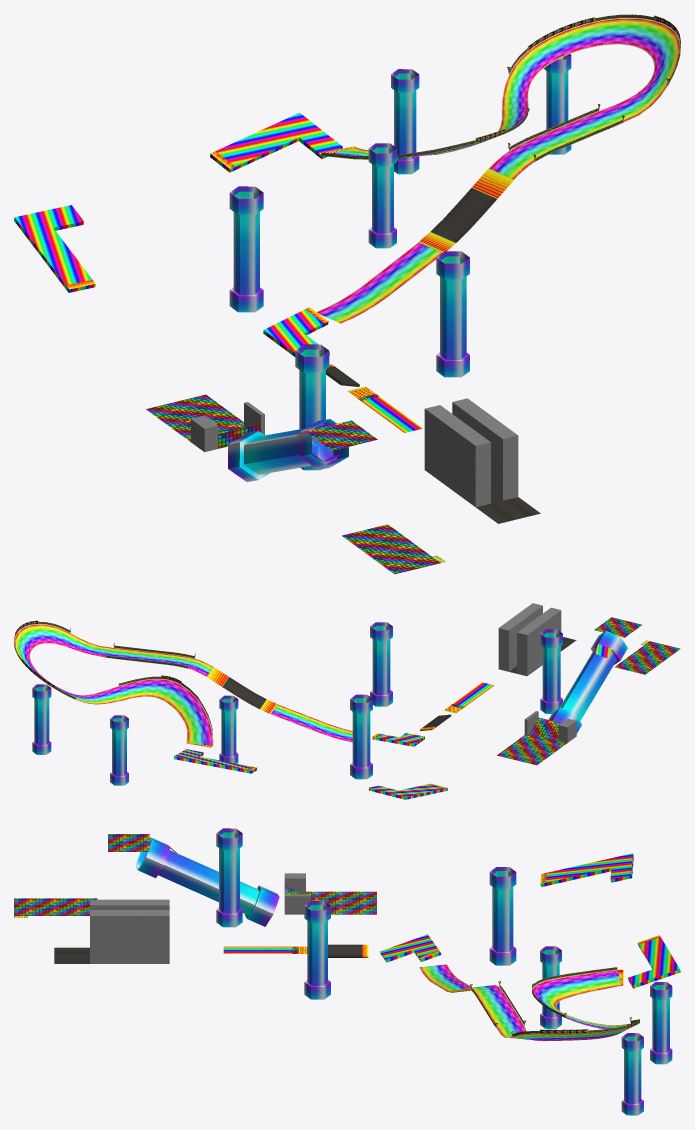
3 renders of one model, top to bottom at view 1: azimuth 30°, elevation 25°; view 2: azimuth 150°, elevation 25°; view 3: azimuth 270°, elevation 25°, orthographic. The views are drawn at different scales.
Parts seen in each view (by area): view 1: course-SKP--auto6.001, course-SKP--Material6.010, course-SKP--Material1.014, course-SKP--auto17.001, course-SKP--Material2.014, course-SKP--auto18.003, course-SKP--Material4.011, course-SKP--Material3.013, course-SKP--auto8.001, course-SKP--auto12.001; view 2: course-SKP--auto6.001, course-SKP--auto17.001, course-SKP--Material6.010, course-SKP--Material2.014, course-SKP--Material1.014, course-SKP--auto18.003, course-SKP--auto8.001, course-SKP--Material4.011, course-SKP--Material3.013, course-SKP--auto21.002; view 3: course-SKP--auto6.001, course-SKP--Material6.010, course-SKP--Material1.014, course-SKP--auto17.001, course-SKP--Material2.014, course-SKP--Material4.011, course-SKP--auto8.001, course-SKP--auto18.003, course-SKP--Material3.013.
Boxes of the visible parts, x1,y1,x2,y2 form: course-SKP--auto6.001: [228, 54, 571, 481]; course-SKP--Material6.010: [191, 398, 518, 507]; course-SKP--Material1.014: [14, 112, 422, 435]; course-SKP--auto17.001: [331, 83, 618, 312]; course-SKP--Material2.014: [146, 394, 440, 574]; course-SKP--auto18.003: [528, 18, 680, 88]; course-SKP--Material4.011: [326, 188, 540, 523]; course-SKP--Material3.013: [66, 146, 513, 398]; course-SKP--auto8.001: [321, 14, 680, 161]; course-SKP--auto12.001: [327, 75, 638, 318]; course-SKP--auto6.001: [32, 622, 627, 785]; course-SKP--auto17.001: [80, 648, 349, 745]; course-SKP--Material6.010: [498, 603, 576, 742]; course-SKP--Material2.014: [450, 617, 680, 765]; course-SKP--Material1.014: [174, 644, 612, 799]; course-SKP--auto18.003: [14, 624, 70, 689]; course-SKP--auto8.001: [14, 621, 213, 741]; course-SKP--Material4.011: [222, 637, 576, 727]; course-SKP--Material3.013: [186, 667, 461, 788]; course-SKP--auto21.002: [15, 620, 181, 689]; course-SKP--auto6.001: [135, 828, 672, 1115]; course-SKP--Material6.010: [90, 873, 311, 963]; course-SKP--Material1.014: [168, 845, 680, 988]; course-SKP--auto17.001: [425, 969, 625, 1029]; course-SKP--Material2.014: [14, 834, 376, 953]; course-SKP--Material4.011: [54, 944, 471, 992]; course-SKP--auto8.001: [471, 967, 638, 1036]; course-SKP--auto18.003: [513, 1026, 633, 1041]; course-SKP--Material3.013: [298, 873, 660, 992].
Size of the model in its own units: 122055 by 29923 by 138980.
19 materials, 18 textured.
